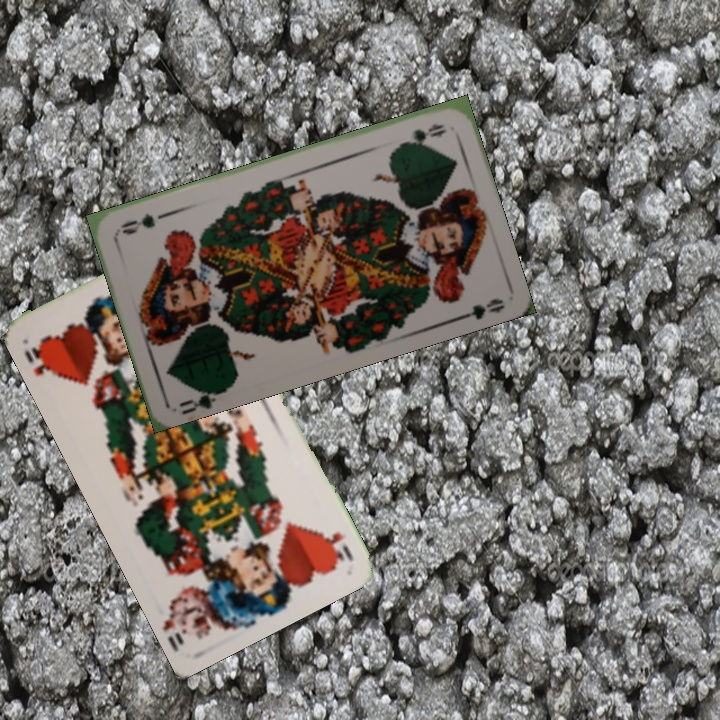GO: (175, 383, 229, 415), (394, 120, 449, 151)
HO: (20, 335, 61, 383), (322, 528, 356, 564)
